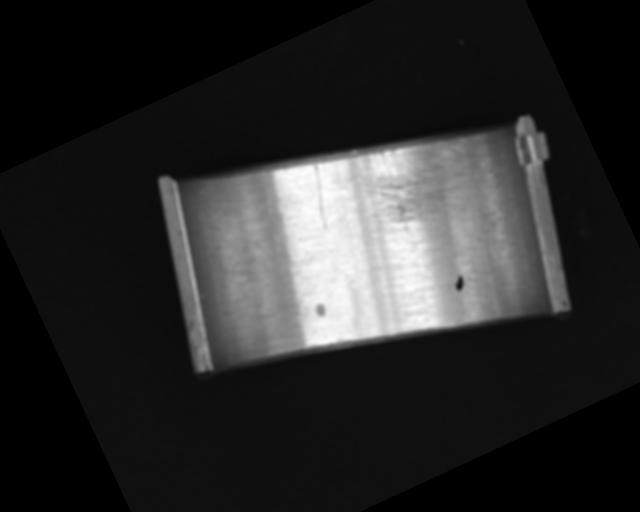blot: (451, 272, 467, 291)
bruise: (313, 302, 328, 318)
nick: (194, 264, 273, 365), (297, 163, 343, 230)
scratch: (341, 109, 489, 243)
